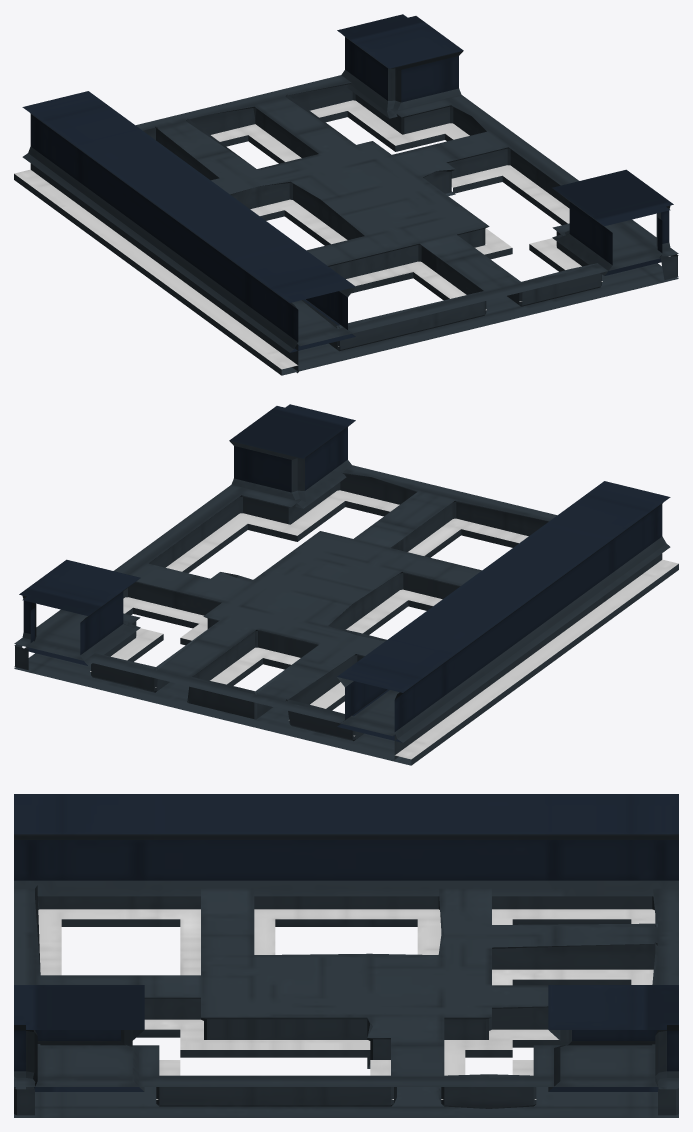
The model's file is delbld-girder-598.glb.
The picture shows the model from 3 angles, top to bottom: view 1: azimuth 30°, elevation 25°; view 2: azimuth 150°, elevation 25°; view 3: azimuth 270°, elevation 25°; orthographic projection. The views are drawn at different scales.
Visible parts, largest first — view 1: delbld-girder-598; view 2: delbld-girder-598; view 3: delbld-girder-598.
Part boxes in pixels (box(x1,y1,x2,y2)): delbld-girder-598: box(14, 14, 678, 375); delbld-girder-598: box(14, 404, 678, 765); delbld-girder-598: box(14, 794, 678, 1117).
Size of the model in its own units: 2 by 0.35 by 2.33.
Materials: 3 (3 with a texture image).
